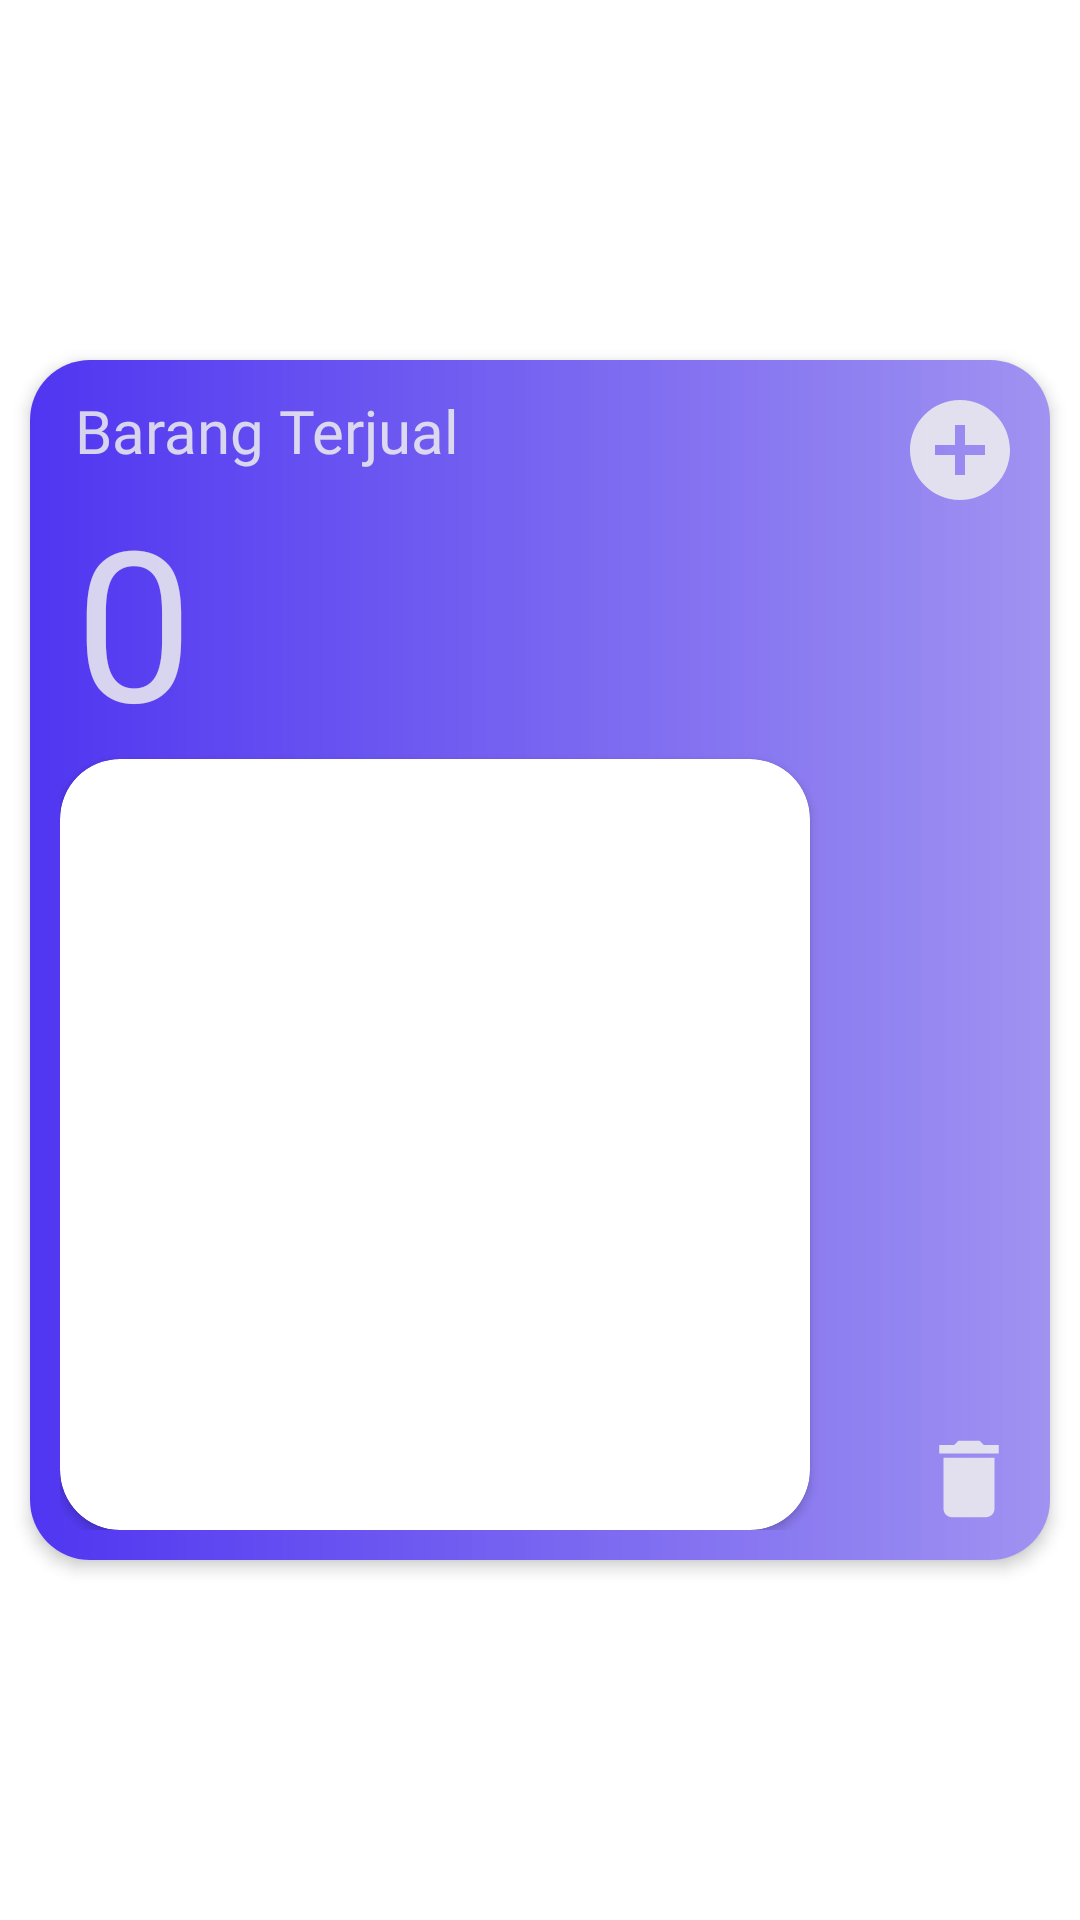

Named icons in this screenshot (1080 x 1920) and their bounding boxes, {"x1": x1, "y1": y1, "x2": x2, "y2": y2}:
dellete: {"x1": 939, "y1": 1441, "x2": 999, "y2": 1517}
tambah: {"x1": 910, "y1": 400, "x2": 1010, "y2": 500}
